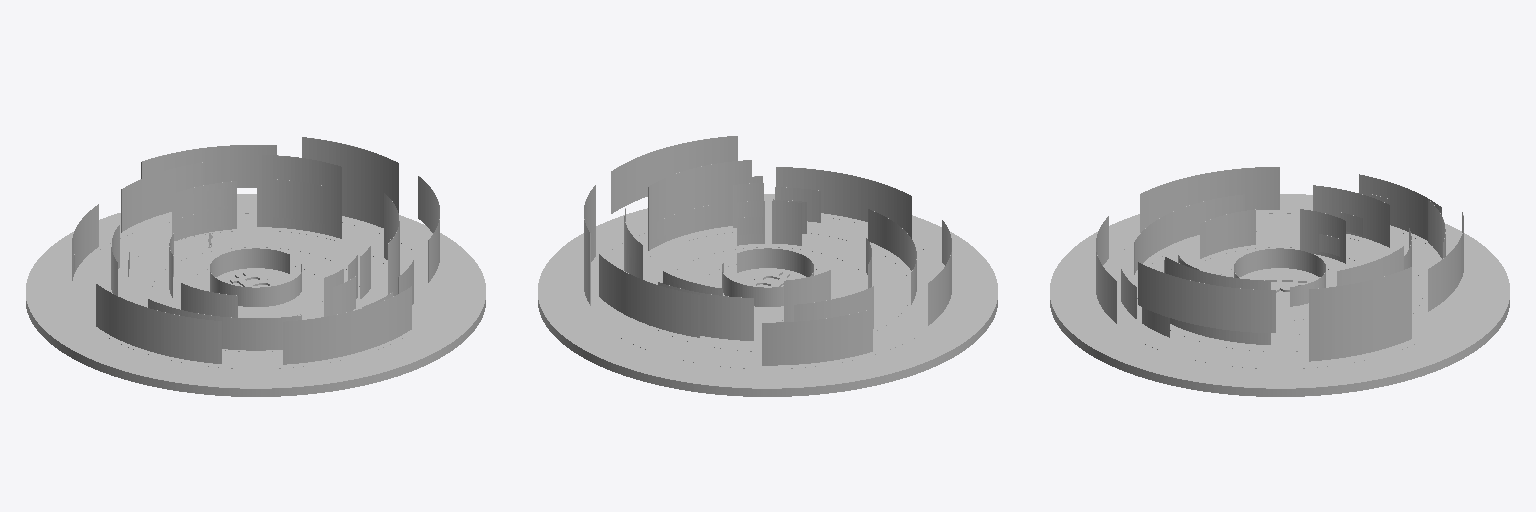
The model's file is SECRET PROJECT X3.obj.
3 renders of one model, left to right at view 1: azimuth 30°, elevation 25°; view 2: azimuth 150°, elevation 25°; view 3: azimuth 270°, elevation 25°, orthographic.
Visible parts, largest first — view 1: group_18_ID132, group_3_ID27, group_1_ID13, group_2_ID20, group_5_ID41, group_14_ID104, group_8_ID62, group_13_ID97, group_17_ID125, group_28.001_ID237, group_12_ID90, group_4_ID34 (+4 smaller); view 2: group_18_ID132, group_6_ID48, group_0_ID4, group_3_ID27, group_14_ID104, group_4_ID34, group_8_ID62, group_13_ID97, group_17_ID125, group_11_ID83, group_10_ID76, group_1_ID13 (+6 smaller); view 3: group_18_ID132, group_2_ID20, group_4_ID34, group_1_ID13, group_17_ID125, group_11_ID83, group_8_ID62, group_6_ID48, group_0_ID4, group_9_ID69, group_10_ID76, group_14_ID104 (+3 smaller).
Part boxes in pixels (x1,y1,x2,y2): group_18_ID132: (26, 194, 485, 396); group_3_ID27: (283, 286, 411, 364); group_1_ID13: (96, 284, 221, 363); group_2_ID20: (302, 137, 398, 227); group_5_ID41: (257, 155, 341, 238); group_14_ID104: (141, 145, 276, 187); group_8_ID62: (210, 248, 301, 306); group_13_ID97: (121, 162, 202, 232); group_17_ID125: (148, 299, 301, 350); group_28.001_ID237: (273, 179, 324, 223); group_12_ID90: (172, 181, 236, 240); group_4_ID34: (418, 176, 439, 282); group_18_ID132: (538, 194, 997, 396); group_6_ID48: (648, 160, 751, 250); group_0_ID4: (762, 309, 872, 365); group_3_ID27: (776, 167, 911, 238); group_14_ID104: (599, 254, 699, 337); group_4_ID34: (611, 136, 737, 213); group_8_ID62: (722, 248, 813, 306); group_13_ID97: (658, 282, 753, 340); group_17_ID125: (868, 209, 916, 304); group_11_ID83: (794, 286, 873, 328); group_10_ID76: (784, 270, 830, 321); group_1_ID13: (928, 220, 951, 325); group_18_ID132: (1050, 194, 1509, 396); group_2_ID20: (1309, 267, 1411, 361); group_4_ID34: (1138, 262, 1275, 332); group_1_ID13: (1140, 167, 1279, 232); group_17_ID125: (1134, 194, 1244, 274); group_11_ID83: (1313, 185, 1389, 247); group_8_ID62: (1234, 248, 1325, 306); group_6_ID48: (1165, 257, 1270, 344); group_0_ID4: (1359, 174, 1441, 240); group_9_ID69: (1200, 209, 1255, 258); group_10_ID76: (1300, 209, 1345, 263); group_14_ID104: (1428, 212, 1463, 311).
Bounding box in the file's own units: 50.02 × 10.45 × 50.